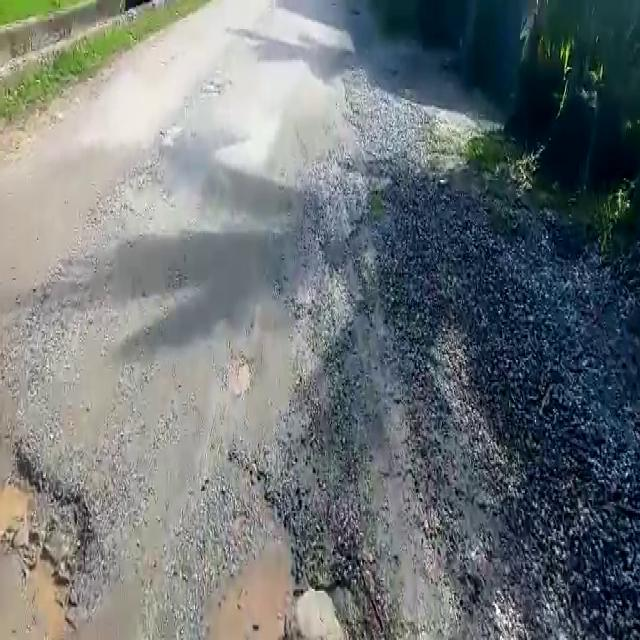Pothole: (0, 434, 94, 618), (203, 539, 295, 640)
